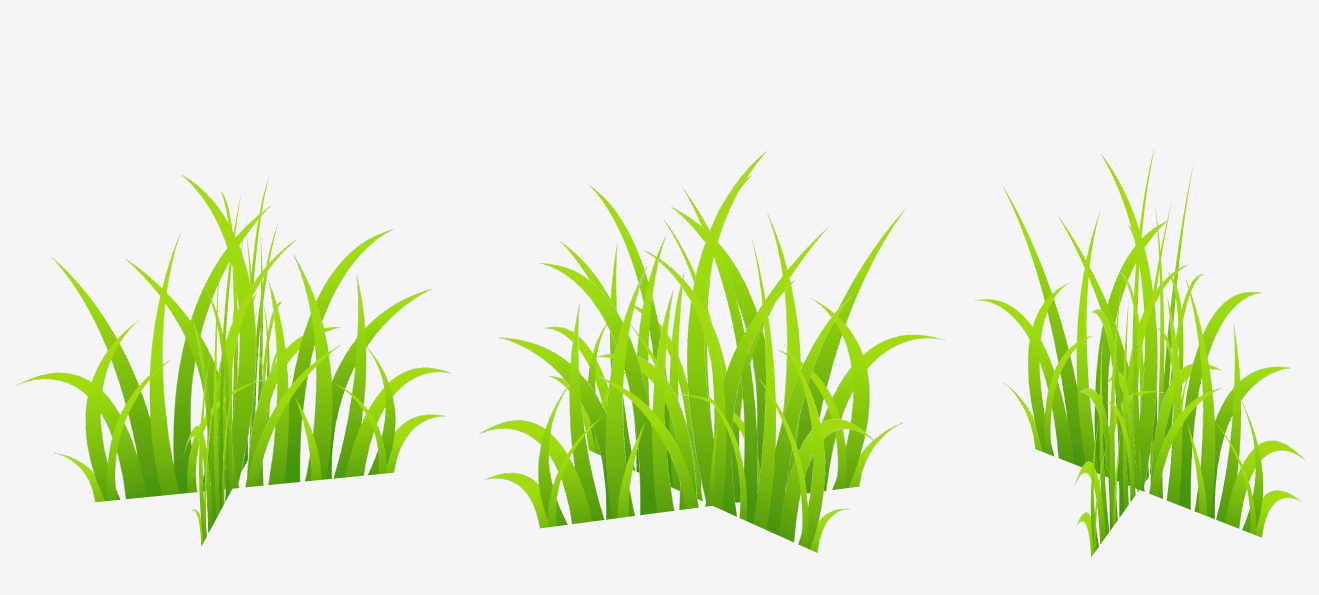
File: grass2.glb
The picture shows the model from 3 angles, left to right: view 1: azimuth 30°, elevation 25°; view 2: azimuth 150°, elevation 25°; view 3: azimuth 270°, elevation 25°; orthographic projection. The views are drawn at different scales.
Visible parts, largest first — view 1: grass; view 2: grass; view 3: grass.
Part boxes in pixels (left/top/right/bottom): grass: left=15, top=174, right=450, bottom=546; grass: left=479, top=151, right=944, bottom=552; grass: left=974, top=148, right=1304, bottom=556.
Size of the model in its own units: 0.9573 by 0.9416 by 0.7339.
1 material, 1 textured.
